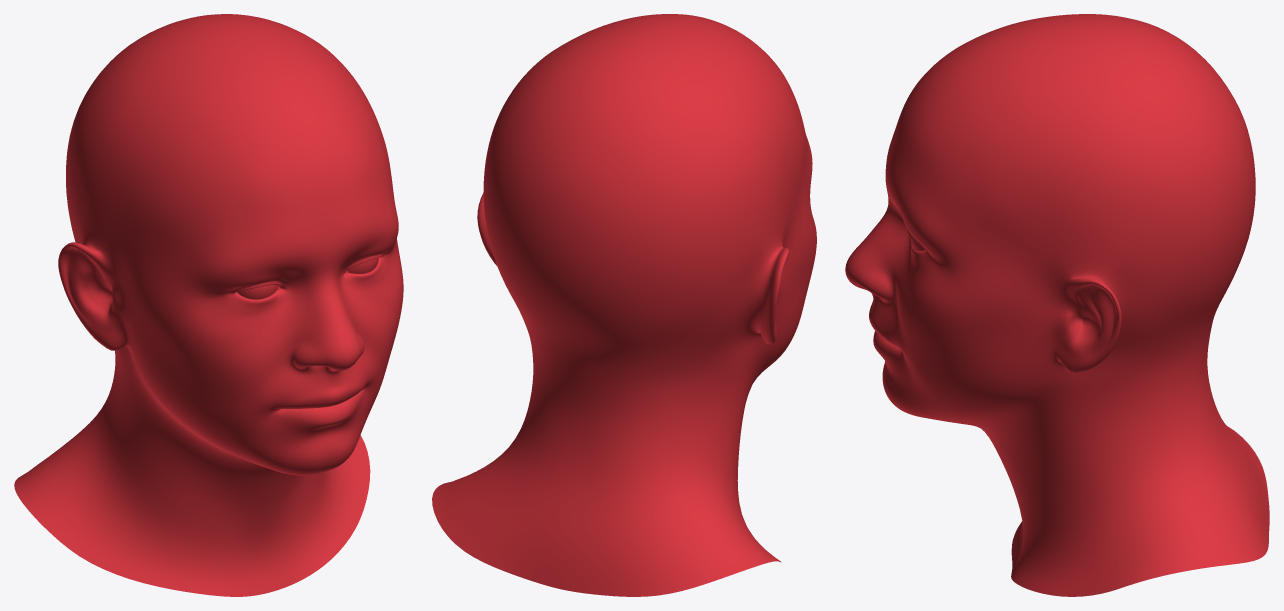
The model's file is myhead.glb.
3 renders of one model, left to right at view 1: azimuth 30°, elevation 25°; view 2: azimuth 150°, elevation 25°; view 3: azimuth 270°, elevation 25°, orthographic.
Parts seen in each view (by area): view 1: FBHead; view 2: FBHead; view 3: FBHead.
Part boxes in pixels (left/top/right/bottom): FBHead: left=14, top=14, right=403, bottom=596; FBHead: left=432, top=14, right=816, bottom=596; FBHead: left=845, top=14, right=1269, bottom=596.
Size of the model in its own units: 1.94 by 3.03 by 2.17.
